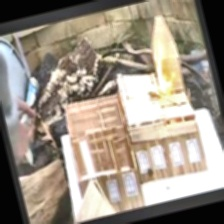fire: (144, 43, 188, 99)
